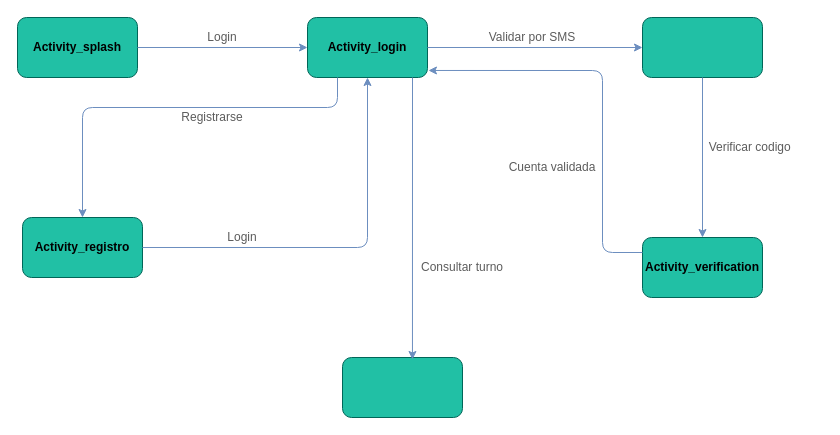
Some shapes in this 840 by 435 pixel diagram are drawn without their labels. The box of each missing label's shape, as (x1, y1, x2, y2) in pixels:
Activity_mi_vacuna: (342, 356, 462, 418)
Activity_sms: (642, 16, 762, 78)
